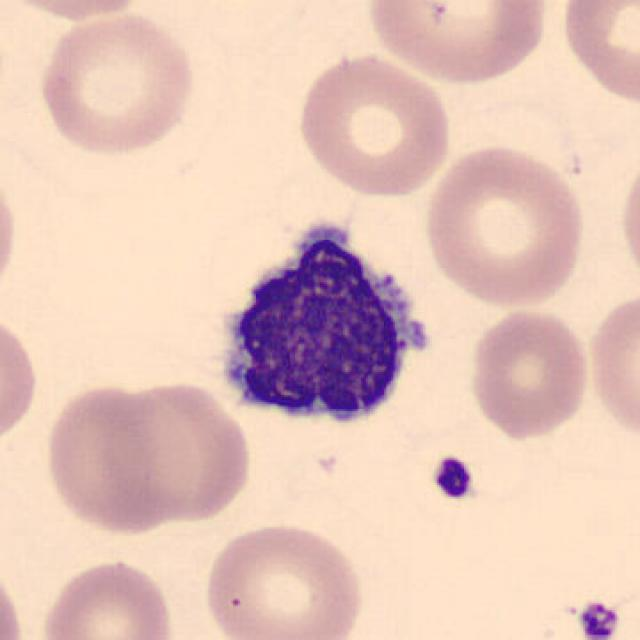Lymphocyte: (203, 210, 441, 441)
Platelets: (431, 453, 476, 503), (574, 597, 624, 640)
RBC: (418, 140, 590, 310), (32, 7, 201, 159), (292, 49, 455, 200), (39, 381, 189, 536), (106, 376, 258, 527), (201, 518, 368, 640), (466, 305, 594, 443), (362, 0, 556, 88), (37, 553, 177, 640), (554, 0, 640, 111), (583, 286, 640, 451), (0, 307, 41, 455), (615, 141, 640, 294), (0, 0, 155, 23), (0, 159, 23, 303), (0, 557, 27, 640)
